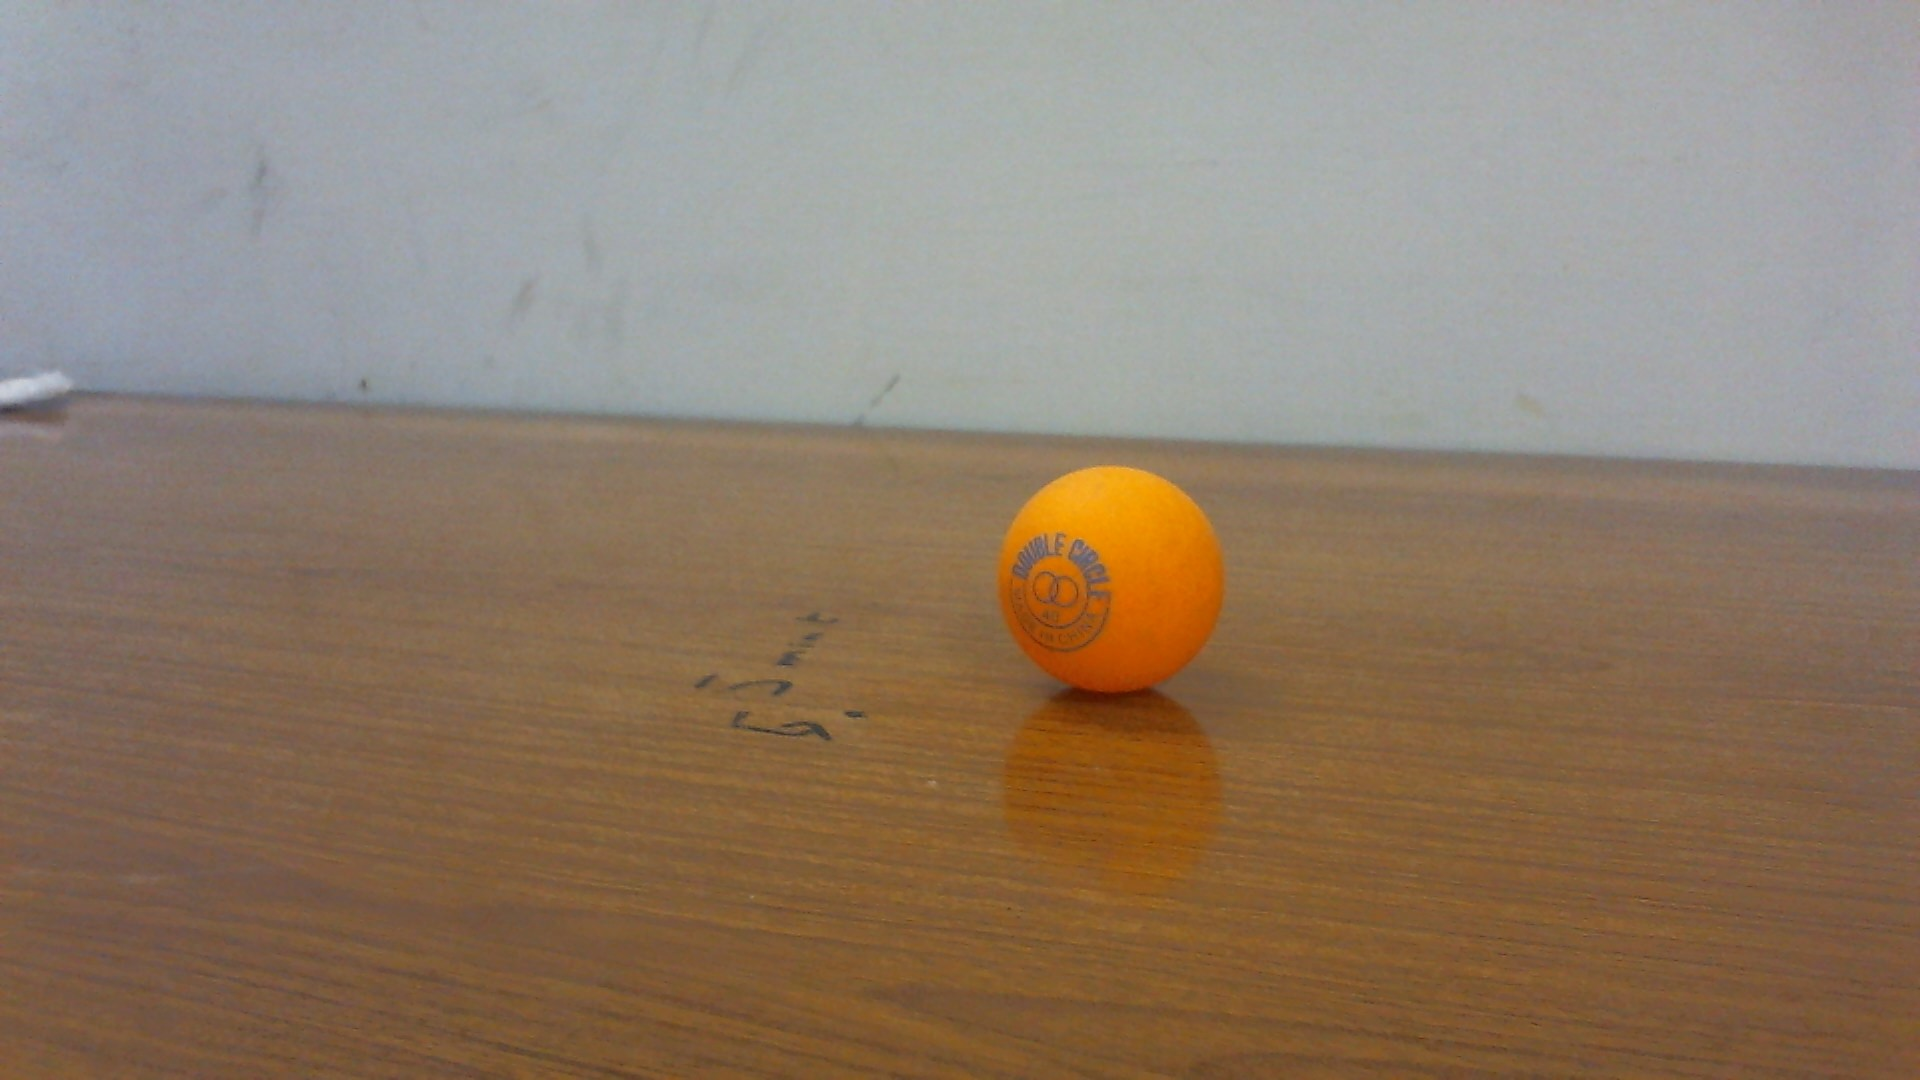ball: (993, 463, 1229, 698)
